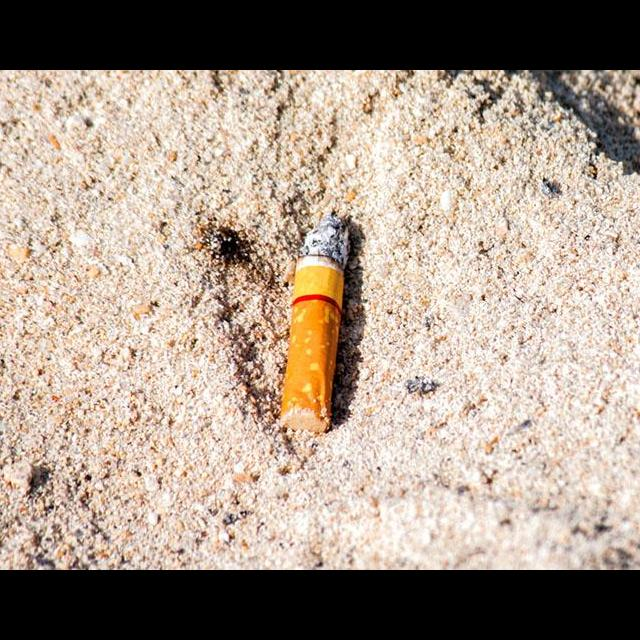Cigarette Butt: (278, 213, 352, 436)
